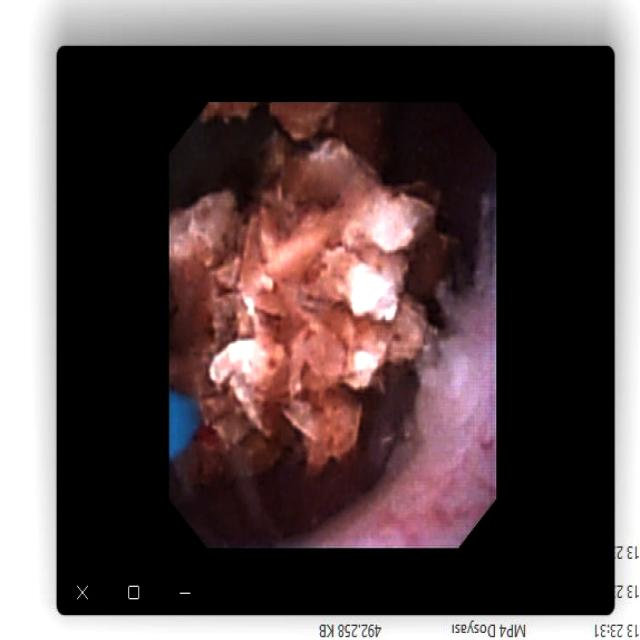fiber: (174, 396, 196, 455)
stone: (171, 106, 452, 488)
